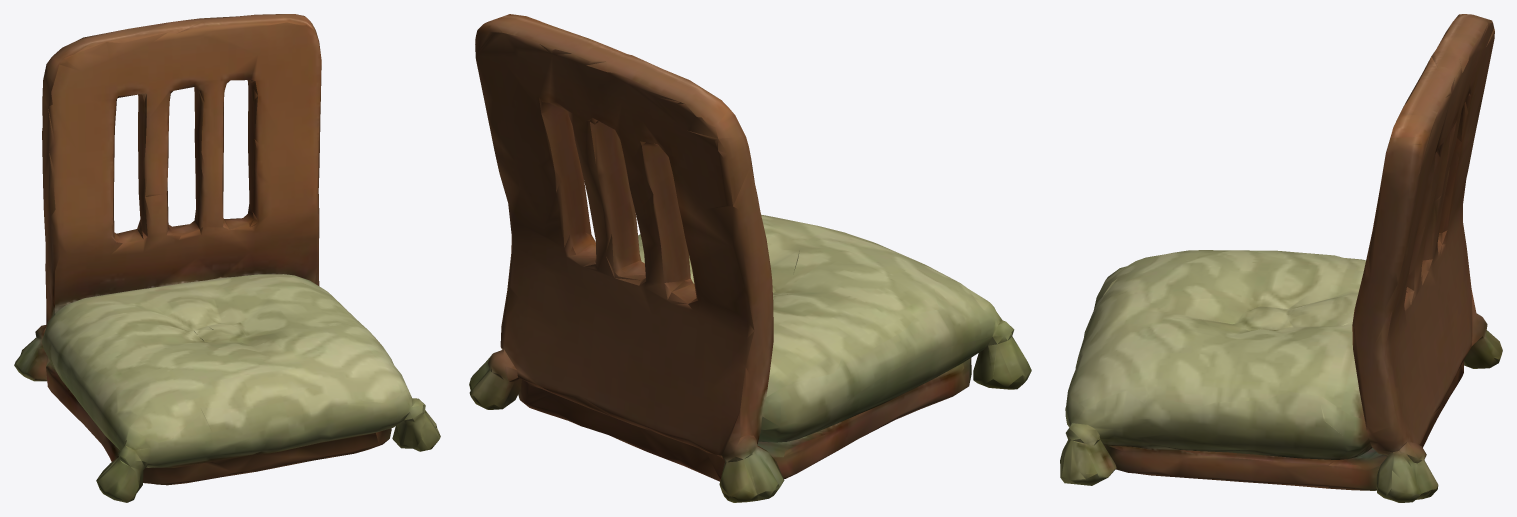
The model's file is chair16.glb.
The picture shows the model from 3 angles, left to right: view 1: azimuth 30°, elevation 25°; view 2: azimuth 150°, elevation 25°; view 3: azimuth 270°, elevation 25°; orthographic projection. The views are drawn at different scales.
Size of the model in its own units: 0.1907 by 0.1737 by 0.1846.
Materials: 1 (1 with a texture image).
